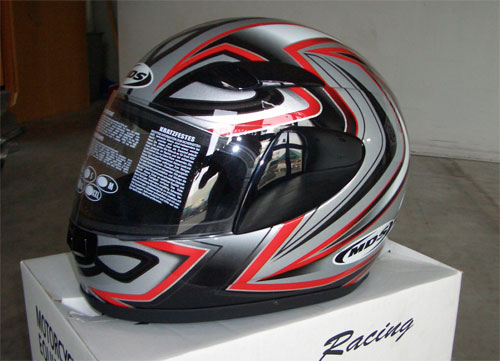helmet: (84, 29, 409, 288)
